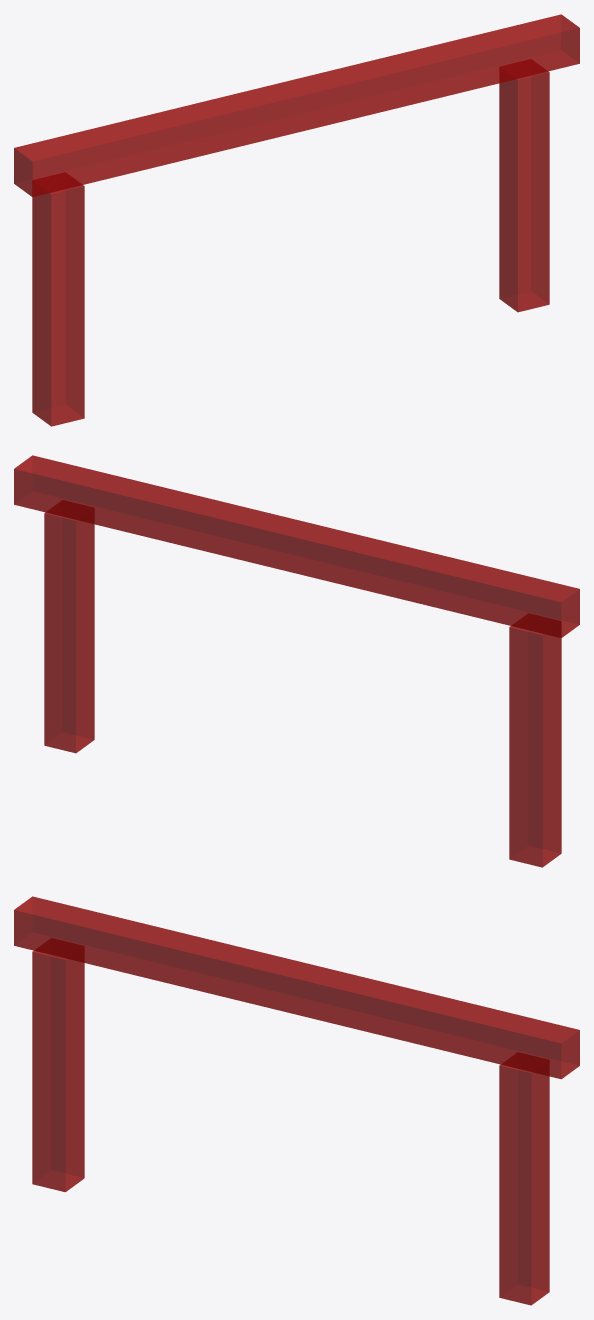
The model's file is SM_Prop_HorseHitch_01_Collision.fbx.
3 renders of one model, top to bottom at view 1: azimuth 30°, elevation 25°; view 2: azimuth 150°, elevation 25°; view 3: azimuth 330°, elevation 25°, orthographic.
Visible parts, largest first — view 1: SM_Prop_HorseHitch_01_Collision; view 2: SM_Prop_HorseHitch_01_Collision; view 3: SM_Prop_HorseHitch_01_Collision.
Part boxes in pixels (x1,y1,x2,y2): SM_Prop_HorseHitch_01_Collision: [14, 14, 579, 426]; SM_Prop_HorseHitch_01_Collision: [14, 455, 579, 867]; SM_Prop_HorseHitch_01_Collision: [14, 896, 579, 1305].
Size of the model in its own units: 251 by 118 by 15.29.
